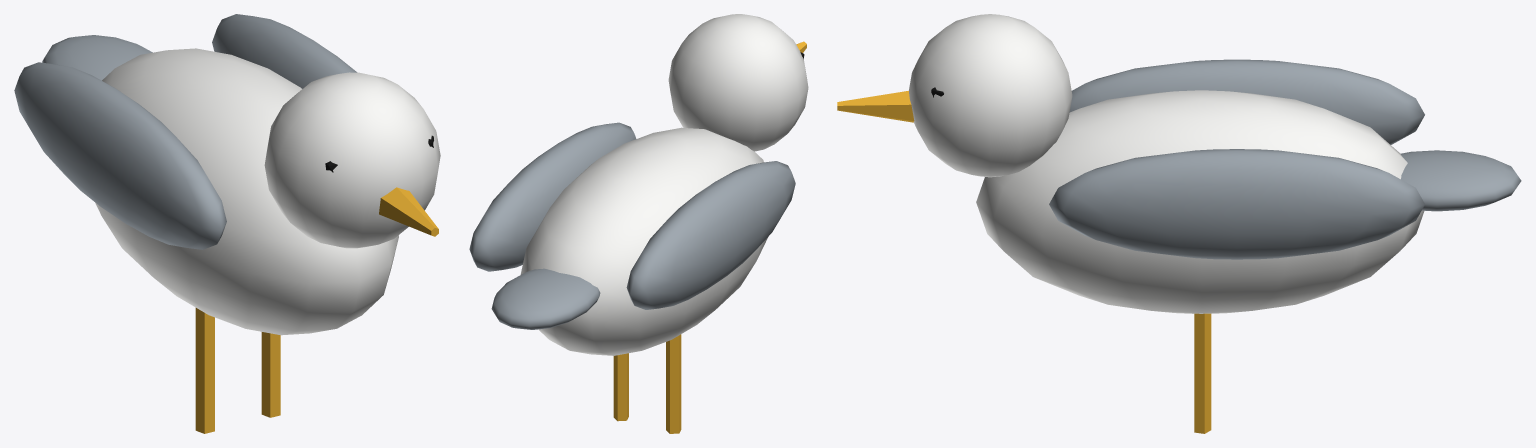
File: moewe.glb
3 renders of one model, left to right at view 1: azimuth 30°, elevation 25°; view 2: azimuth 150°, elevation 25°; view 3: azimuth 270°, elevation 25°, orthographic. The views are drawn at different scales.
Parts seen in each view (by area): view 1: koerper, kopf, fluegel, fluegel.001, schwanz, bein, bein.001, schnabel; view 2: koerper, kopf, fluegel, fluegel.001, schwanz, bein, bein.001; view 3: koerper, fluegel.001, kopf, fluegel, schwanz, bein.001, schnabel.
Part boxes in pixels (bbox=[...]): koerper: bbox=[95, 48, 398, 335]; kopf: bbox=[264, 72, 440, 248]; fluegel: bbox=[14, 62, 226, 249]; fluegel.001: bbox=[212, 14, 357, 88]; schwanz: bbox=[42, 35, 152, 80]; bein: bbox=[195, 308, 214, 433]; bein.001: bbox=[261, 332, 280, 417]; schnabel: bbox=[379, 187, 438, 236]; koerper: bbox=[520, 127, 767, 355]; kopf: bbox=[668, 14, 808, 151]; fluegel: bbox=[626, 161, 795, 309]; fluegel.001: bbox=[469, 122, 636, 271]; schwanz: bbox=[491, 268, 600, 329]; bein: bbox=[666, 334, 681, 433]; bein.001: bbox=[613, 353, 628, 421]; koerper: bbox=[976, 90, 1424, 313]; fluegel.001: bbox=[1049, 149, 1424, 259]; kopf: bbox=[909, 14, 1072, 177]; fluegel: bbox=[1069, 59, 1424, 144]; schwanz: bbox=[1400, 150, 1521, 211]; bein.001: bbox=[1194, 313, 1211, 433]; schnabel: bbox=[837, 91, 914, 122].
Size of the model in its own units: 0.24 by 0.37 by 0.582.
